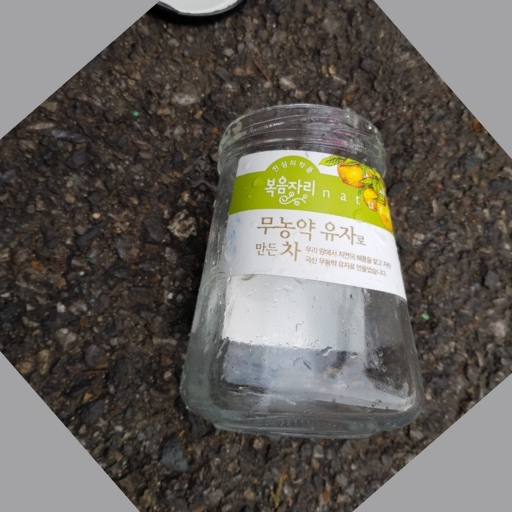Glass_5: (178, 102, 422, 438)
